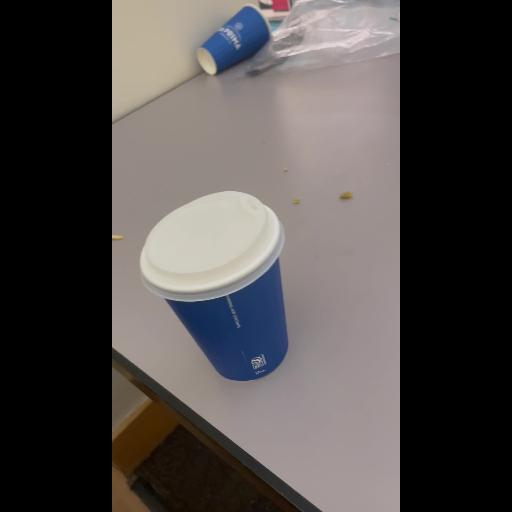lp_paper_cup: (141, 193, 289, 381), (196, 3, 270, 75)
